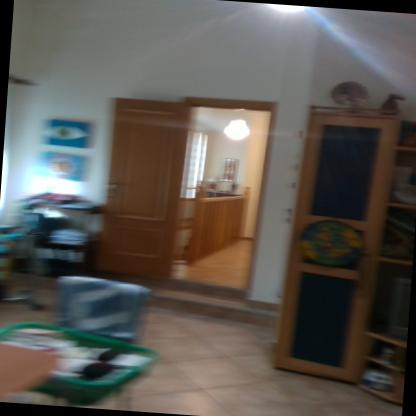open: (94, 81, 296, 310)
